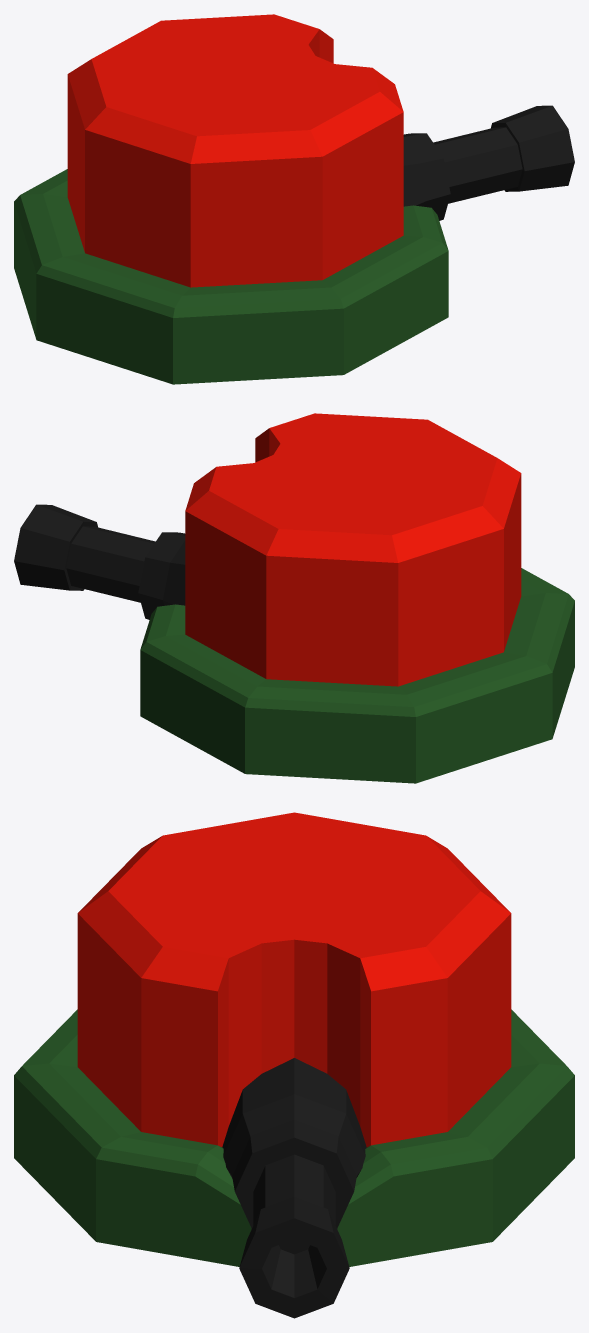
The model's file is button_tank.fbx.
The picture shows the model from 3 angles, top to bottom: view 1: azimuth 30°, elevation 25°; view 2: azimuth 150°, elevation 25°; view 3: azimuth 270°, elevation 25°; orthographic projection. The views are drawn at different scales.
Visible parts, largest first — view 1: Buton, Body, GunForward, GunBody; view 2: Buton, Body, GunForward, GunBody; view 3: Buton, Body, GunBody, GunForward.
Part boxes in pixels (box(x1,y1,x2,y2)): Buton: box(67, 14, 403, 287); Body: box(14, 169, 448, 384); GunForward: box(433, 105, 574, 203); GunBody: box(403, 133, 450, 220); Buton: box(185, 413, 521, 686); Body: box(140, 568, 574, 783); GunForward: box(14, 504, 155, 602); GunBody: box(138, 532, 185, 619); Buton: box(77, 812, 511, 1147); Body: box(14, 1009, 574, 1266); GunBody: box(222, 1058, 366, 1228); GunForward: box(239, 1154, 349, 1318).
Bounding box in the file's own units: 259 × 343 × 137.
